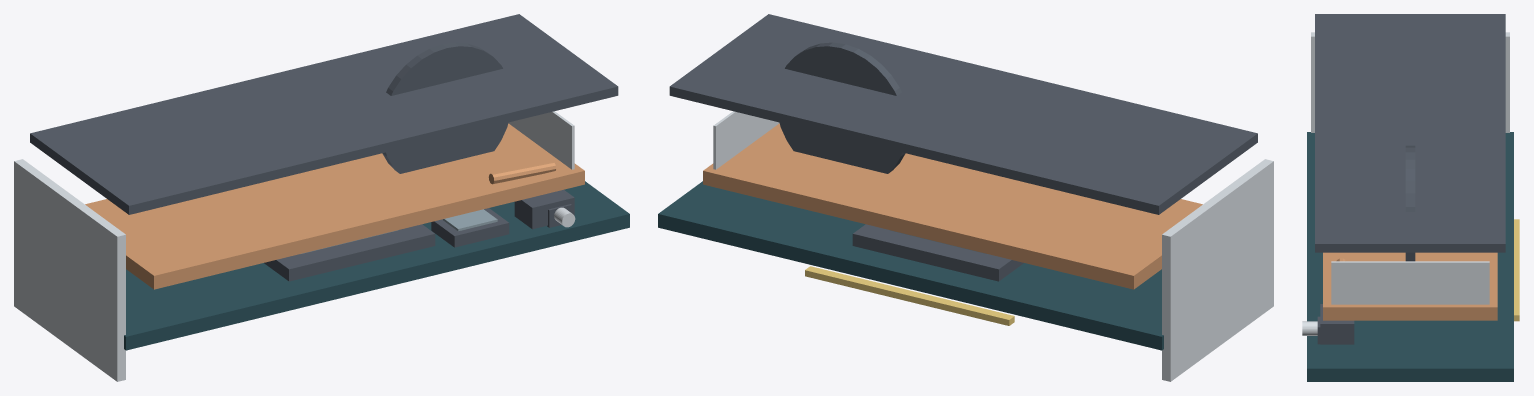
The model's file is 03-gpu.glb.
The picture shows the model from 3 angles, left to right: view 1: azimuth 30°, elevation 25°; view 2: azimuth 150°, elevation 25°; view 3: azimuth 270°, elevation 25°; orthographic projection. The views are drawn at different scales.
Parts seen in each view (by area): view 1: GPU shroud upper rail, Vapor chamber base, GPU PCB, I/O bracket, Fan frame, GPU substrate, Aluminium cooling fin, GDDR memory package, 12V-2x6 power connector, Copper heatpipe, Memory die; view 2: GPU shroud upper rail, Vapor chamber base, GPU PCB, I/O bracket, Fan frame, GPU substrate, PCIe edge connector, Aluminium cooling fin; view 3: GPU shroud upper rail, GPU PCB, Aluminium cooling fin, Vapor chamber base, 12V-2x6 power connector, I/O bracket, Fan frame, PCIe edge connector, GPU polymer capacitor.
Part boxes in pixels (<box>): GPU shroud upper rail: <box>30,14,618,214</box>; Vapor chamber base: <box>85,123,584,289</box>; GPU PCB: <box>124,181,629,350</box>; I/O bracket: <box>14,159,125,381</box>; Fan frame: <box>382,42,508,173</box>; GPU substrate: <box>264,224,435,281</box>; Aluminium cooling fin: <box>508,111,574,169</box>; GDDR memory package: <box>431,208,509,247</box>; 12V-2x6 power connector: <box>514,189,574,229</box>; Copper heatpipe: <box>488,161,556,184</box>; Memory die: <box>443,209,497,231</box>; GPU shroud upper rail: <box>669,14,1257,214</box>; Vapor chamber base: <box>703,123,1202,289</box>; GPU PCB: <box>658,181,1163,350</box>; I/O bracket: <box>1162,159,1273,381</box>; Fan frame: <box>779,42,905,173</box>; GPU substrate: <box>852,224,1023,281</box>; PCIe edge connector: <box>805,266,1014,325</box>; Aluminium cooling fin: <box>713,111,779,169</box>; GPU shroud upper rail: <box>1315,14,1505,252</box>; GPU PCB: <box>1307,132,1513,381</box>; Aluminium cooling fin: <box>1331,261,1489,304</box>; Vapor chamber base: <box>1323,252,1497,320</box>; 12V-2x6 power connector: <box>1320,304,1354,344</box>; I/O bracket: <box>1311,32,1509,132</box>; Fan frame: <box>1405,145,1415,261</box>; PCIe edge connector: <box>1514,219,1519,321</box>; GPU polymer capacitor: <box>1302,321,1317,335</box>.
Bounding box in the file's own units: 6.99 × 2.69 × 2.68.
